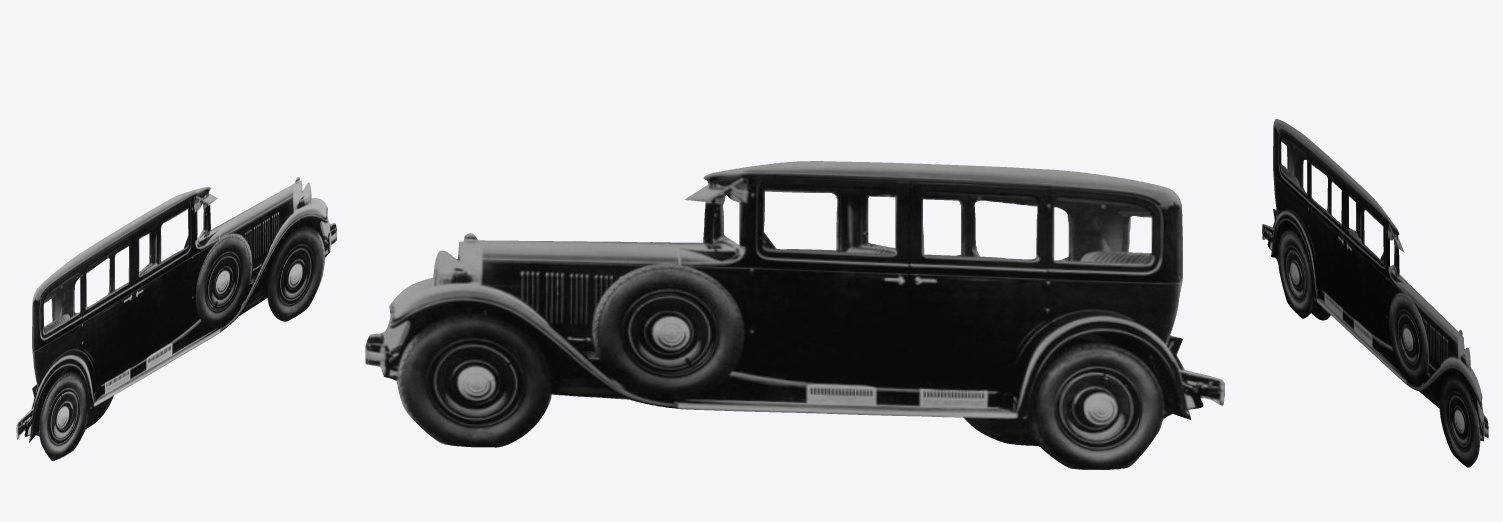
Rendered from JRP_OLD_car.FBX.
3 renders of one model, left to right at view 1: azimuth 30°, elevation 25°; view 2: azimuth 150°, elevation 25°; view 3: azimuth 270°, elevation 25°, orthographic. The views are drawn at different scales.
Visible parts, largest first — view 1: Plane_car_test; view 2: Plane_car_test; view 3: Plane_car_test.
Part boxes in pixels (<box>): Plane_car_test: <box>16,177,336,460</box>; Plane_car_test: <box>365,161,1224,469</box>; Plane_car_test: <box>1262,119,1488,467</box>.
Size of the model in its own units: 587 by 380 by 274.
Materials: 1 (1 with a texture image).
